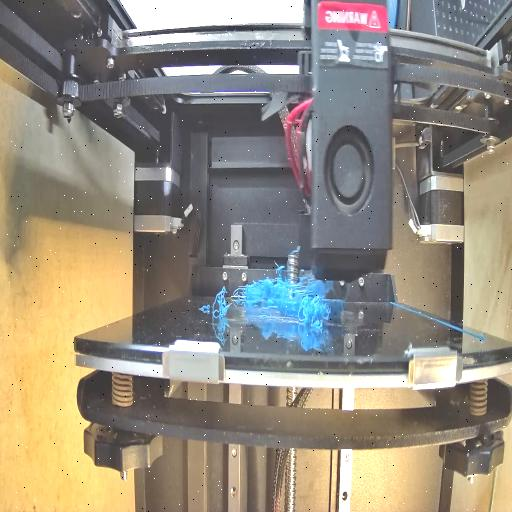spaghetti: (242, 281, 328, 302), (300, 298, 330, 336), (210, 285, 230, 322)
